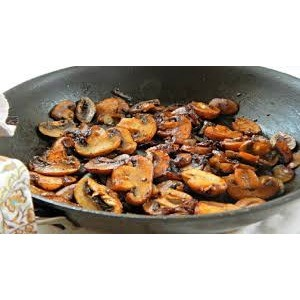mushroom_brain food: (74, 103, 244, 194)
